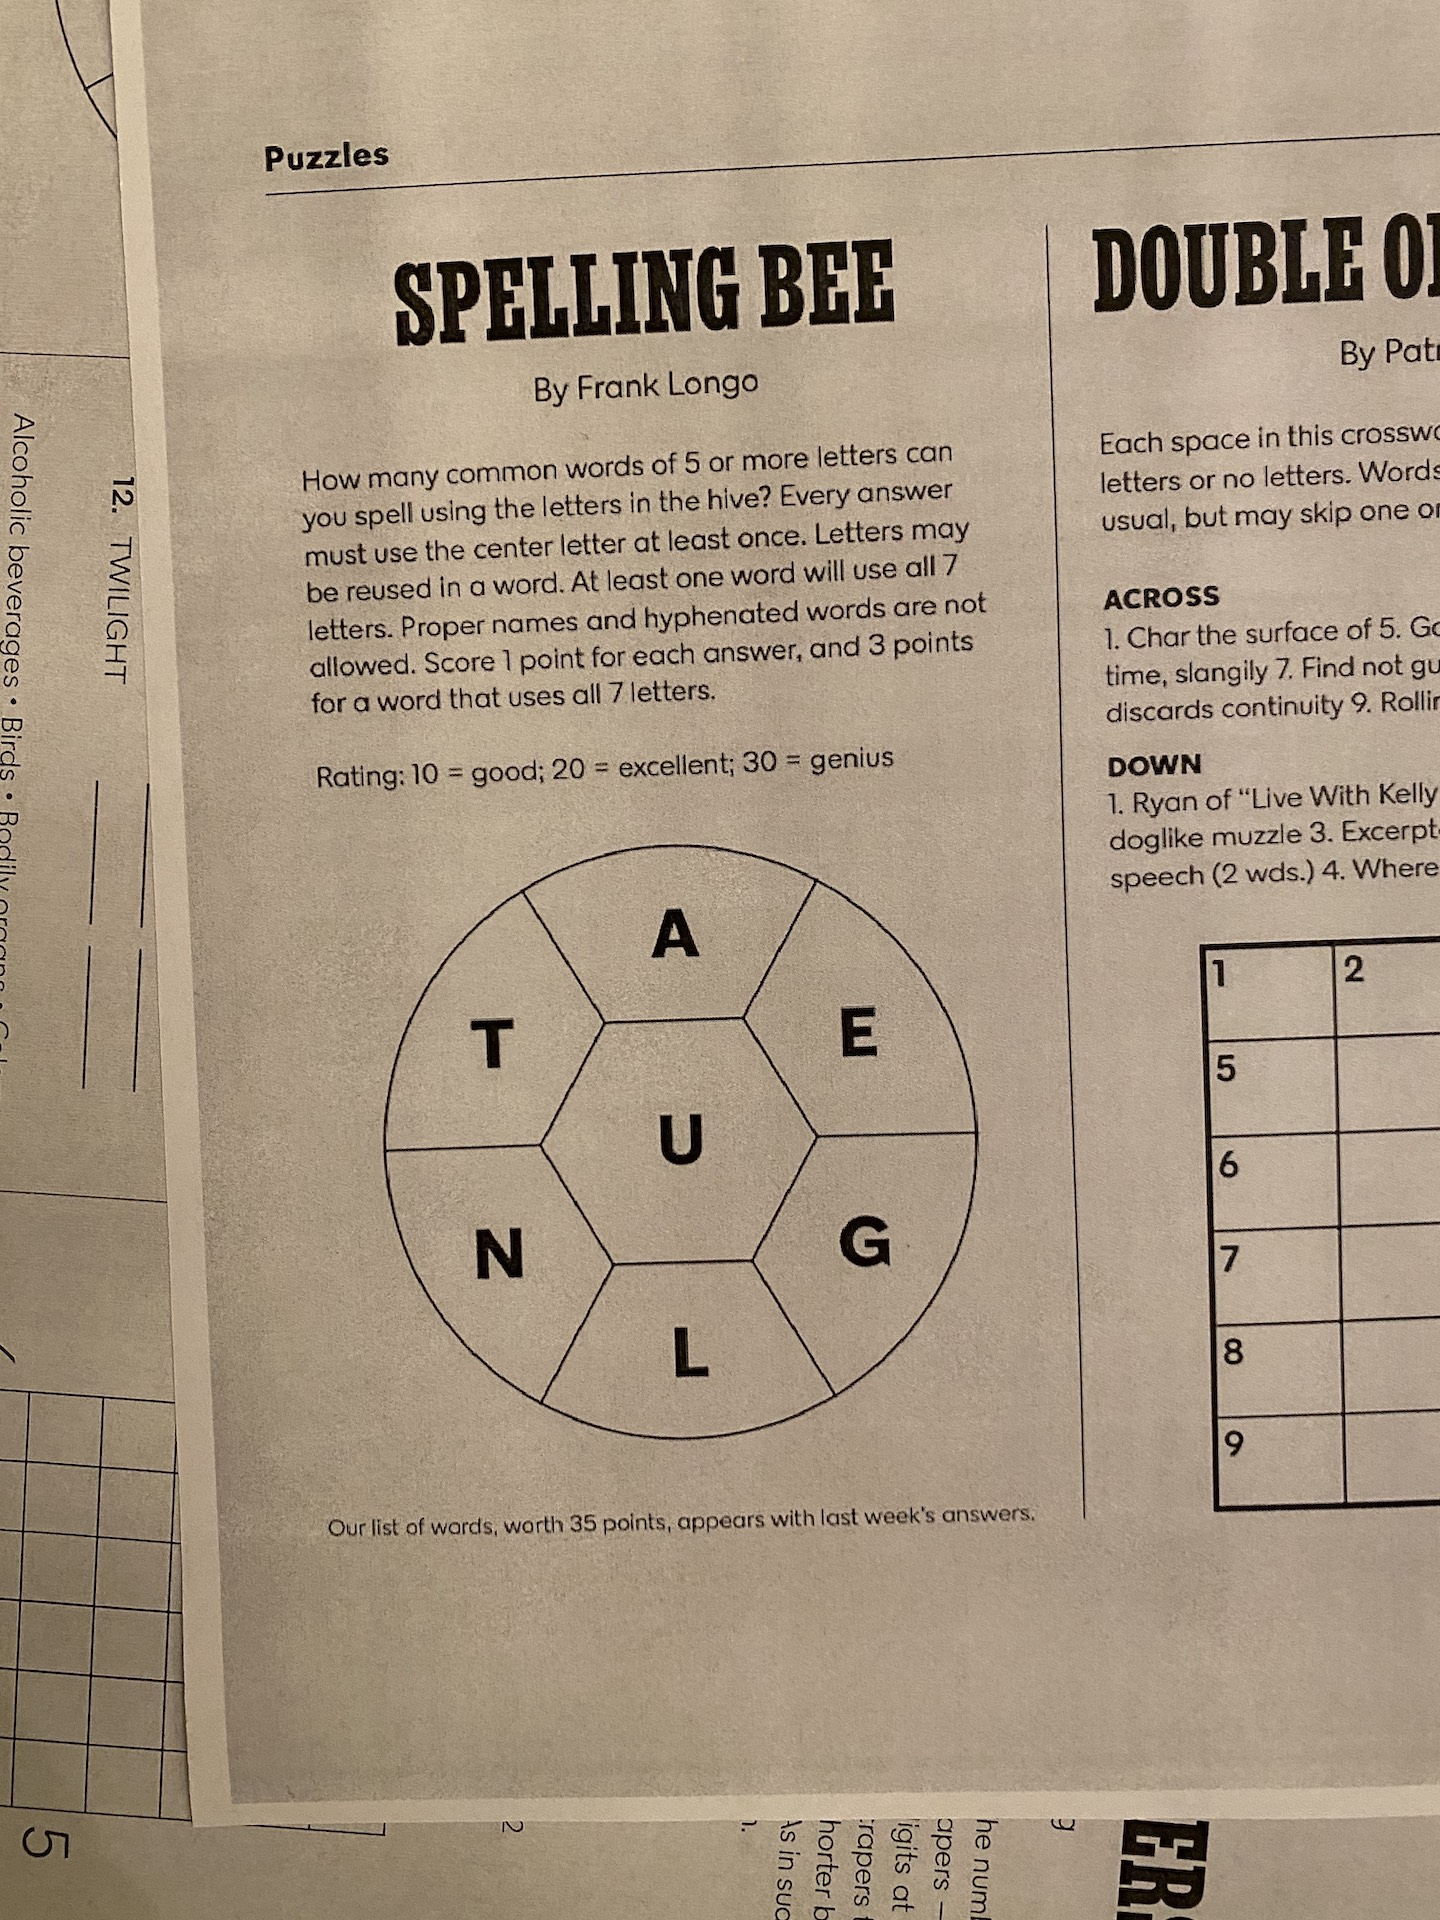Board: (365, 825, 995, 1456)
